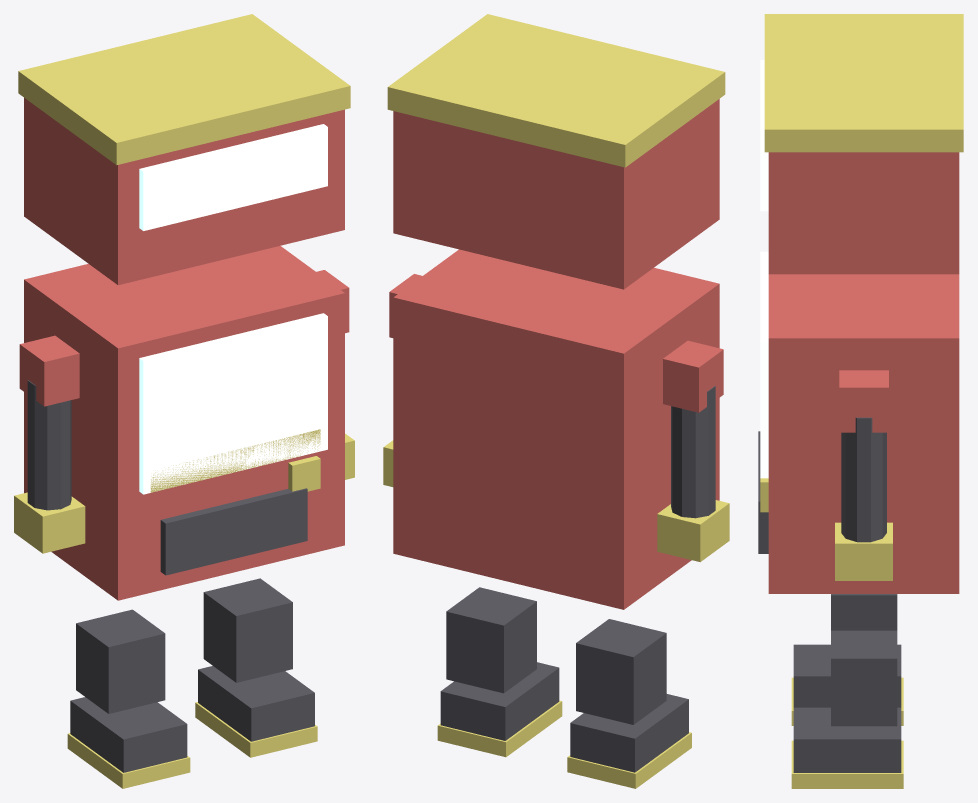
The model's file is vending-machine.glb.
3 renders of one model, left to right at view 1: azimuth 30°, elevation 25°; view 2: azimuth 150°, elevation 25°; view 3: azimuth 270°, elevation 25°, orthographic.
Parts seen in each view (by area): view 1: MainCabinet, RoofBevel, VendingCanopy, DisplayWindow, MarqueeSign, DispenserFlap, LegPost_L, LegPost_R, RubberFoot_L, RubberFoot_R, MechArm_L, ArmMount_L (+5 smaller); view 2: MainCabinet, VendingCanopy, RoofBevel, LegPost_R, LegPost_L, RubberFoot_R, RubberFoot_L, MechArm_L, ArmMount_L, CanClaw_L, FootRim_R, FootRim_L; view 3: MainCabinet, RoofBevel, VendingCanopy, LegPost_R, RubberFoot_R, MechArm_R, ArmMount_R, RubberFoot_L, CanClaw_R, LegPost_L, DisplayWindow, FootRim_R (+2 smaller).
Boxes of the visible parts, left/top/right/bottom form: MainCabinet: left=24, top=246, right=344, bottom=600; RoofBevel: left=18, top=14, right=350, bottom=165; VendingCanopy: left=24, top=98, right=344, bottom=285; DisplayWindow: left=139, top=313, right=327, bottom=494; MarqueeSign: left=139, top=124, right=327, bottom=230; DispenserFlap: left=160, top=488, right=307, bottom=575; LegPost_L: left=76, top=609, right=165, bottom=713; LegPost_R: left=203, top=578, right=292, bottom=682; RubberFoot_L: left=70, top=697, right=187, bottom=772; RubberFoot_R: left=198, top=666, right=314, bottom=741; MechArm_L: left=27, top=380, right=71, bottom=510; ArmMount_L: left=19, top=335, right=79, bottom=406; MainCabinet: left=393, top=249, right=719, bottom=609; VendingCanopy: left=393, top=99, right=719, bottom=289; RoofBevel: left=387, top=14, right=725, bottom=167; LegPost_R: left=446, top=587, right=536, bottom=693; LegPost_L: left=576, top=619, right=666, bottom=724; RubberFoot_R: left=440, top=662, right=559, bottom=740; RubberFoot_L: left=570, top=694, right=688, bottom=772; MechArm_L: left=671, top=386, right=715, bottom=518; ArmMount_L: left=663, top=340, right=723, bottom=412; CanClaw_L: left=657, top=500, right=729, bottom=562; FootRim_R: left=437, top=700, right=562, bottom=757; FootRim_L: left=567, top=732, right=691, bottom=788; MainCabinet: left=768, top=274, right=959, bottom=593; RoofBevel: left=764, top=14, right=963, bottom=152; VendingCanopy: left=768, top=152, right=959, bottom=274; LegPost_R: left=831, top=630, right=897, bottom=726; RubberFoot_R: left=793, top=707, right=901, bottom=772; MechArm_R: left=841, top=417, right=886, bottom=542; ArmMount_R: left=839, top=370, right=888, bottom=432; RubberFoot_L: left=793, top=644, right=901, bottom=707; CanClaw_R: left=835, top=522, right=892, bottom=580; LegPost_L: left=831, top=594, right=897, bottom=630; DisplayWindow: left=760, top=251, right=768, bottom=478; FootRim_R: left=791, top=740, right=903, bottom=788.
Bounding box in the file's own units: 0.88 × 1.78 × 0.495.
